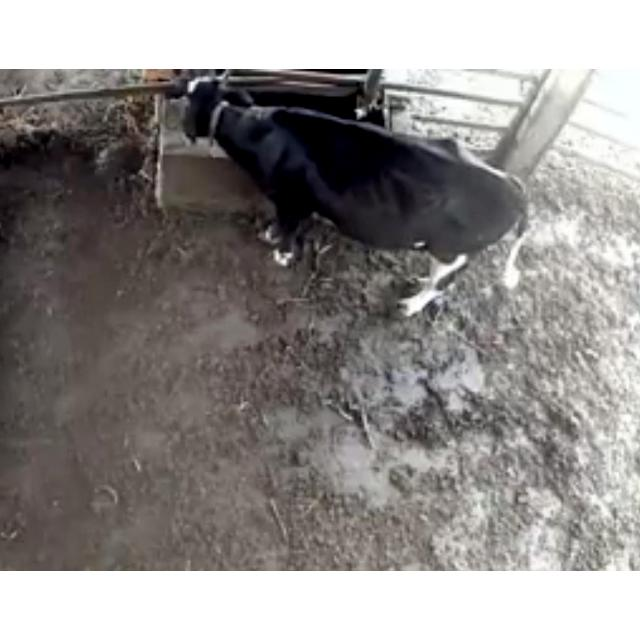drink: (162, 68, 316, 174)
